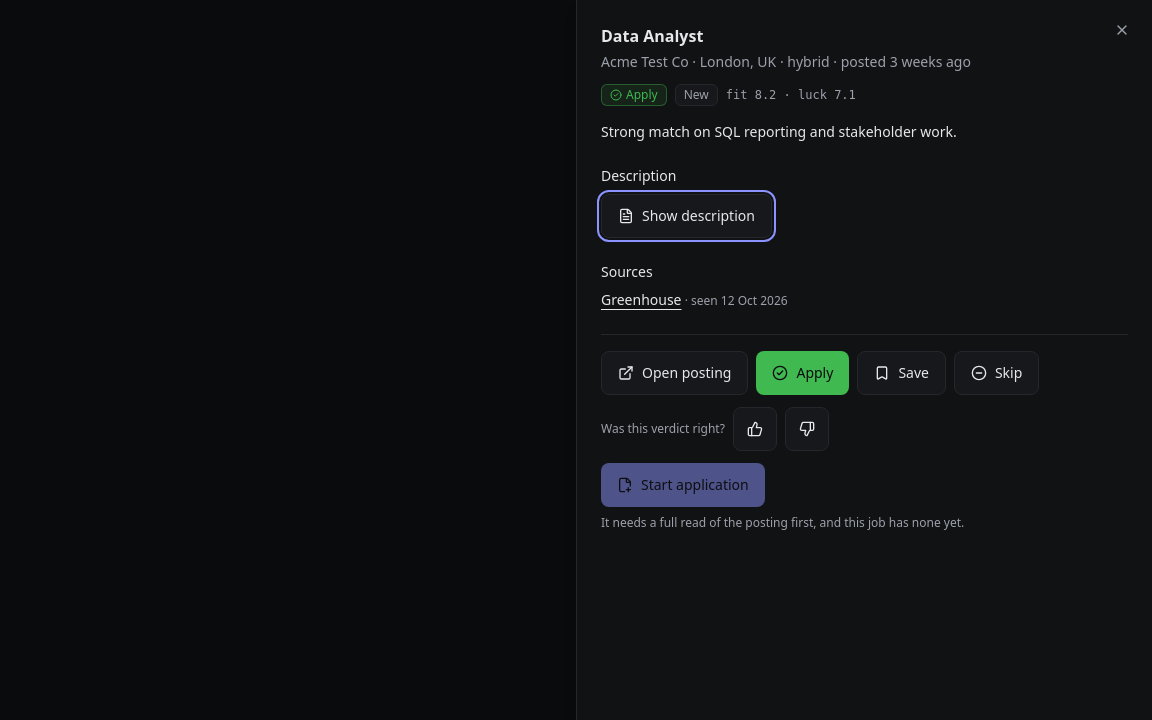
Test case: JobDetail › still says no description is stored when none was purged
The image size is (1152, 720).
Click the button "Show description": (686, 216) [601,194,772,238]
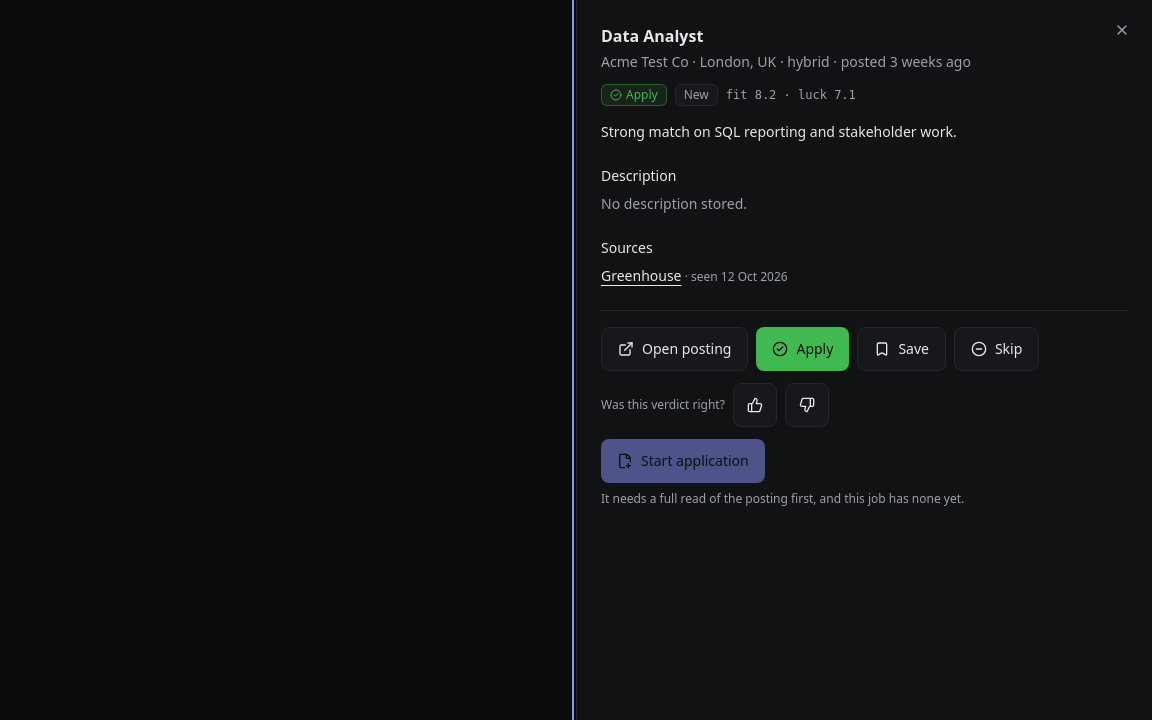
Expected: the text "No description stored." is shown, [601,194,747,213]
